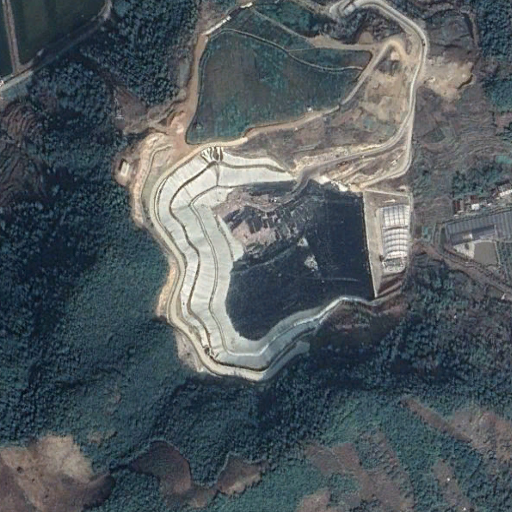lf: (154, 145, 379, 381)
